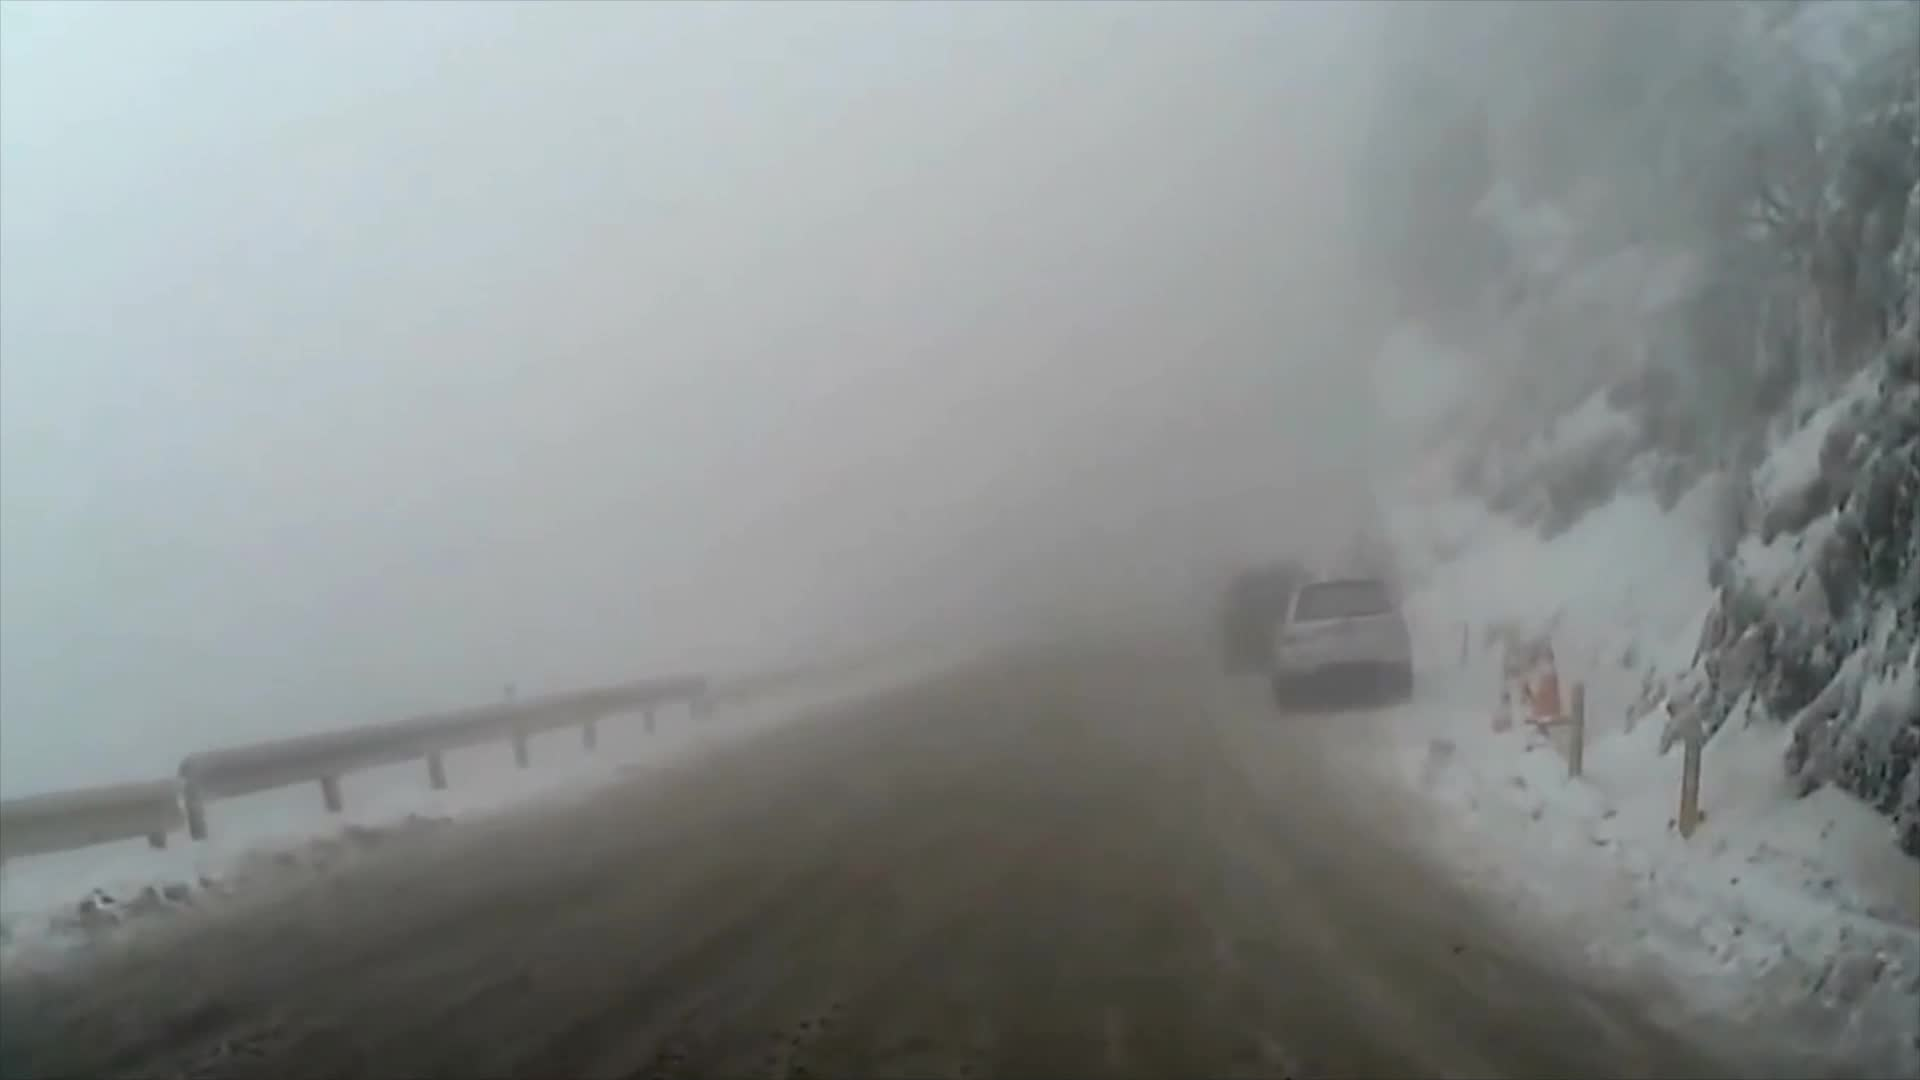vehicle: (1269, 572, 1414, 709), (1218, 560, 1332, 680)
